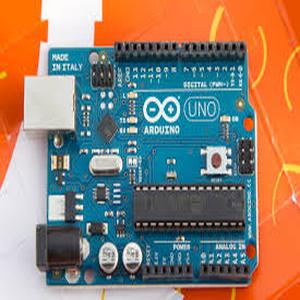duino: (22, 24, 265, 282)
